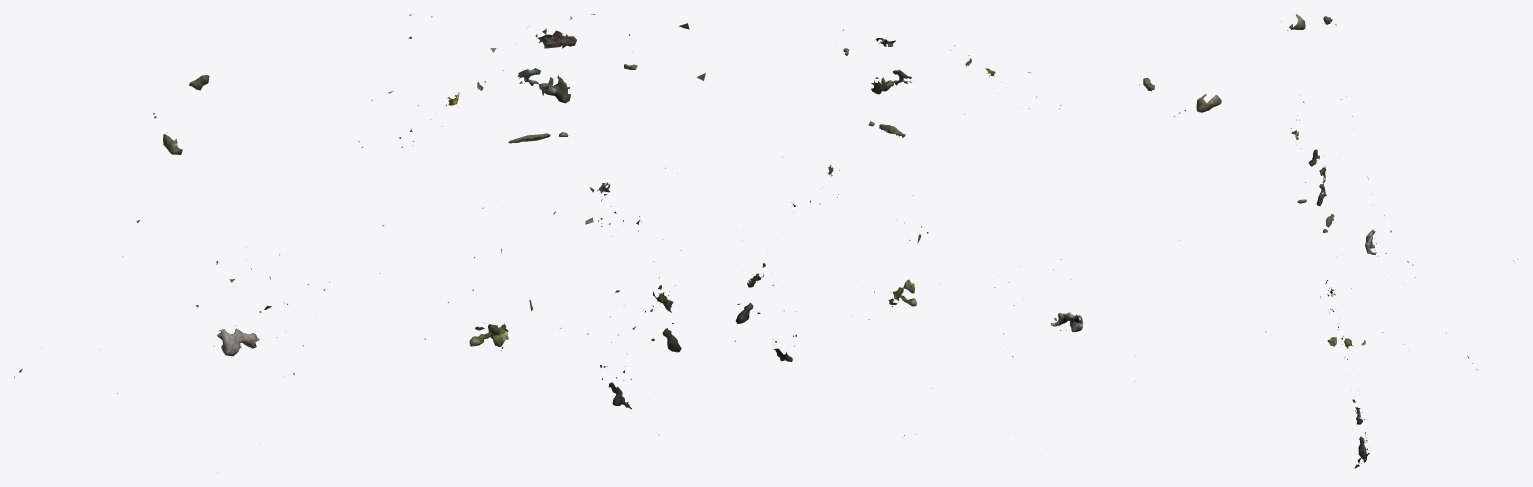
3 views of the same model, side by side, from view 1: azimuth 30°, elevation 25°; view 2: azimuth 150°, elevation 25°; view 3: azimuth 270°, elevation 25° (orthographic). The views are drawn at different scales.
Bounding box in the file's own units: 9.31 × 7.17 × 5.69.
1 material, 1 textured.
